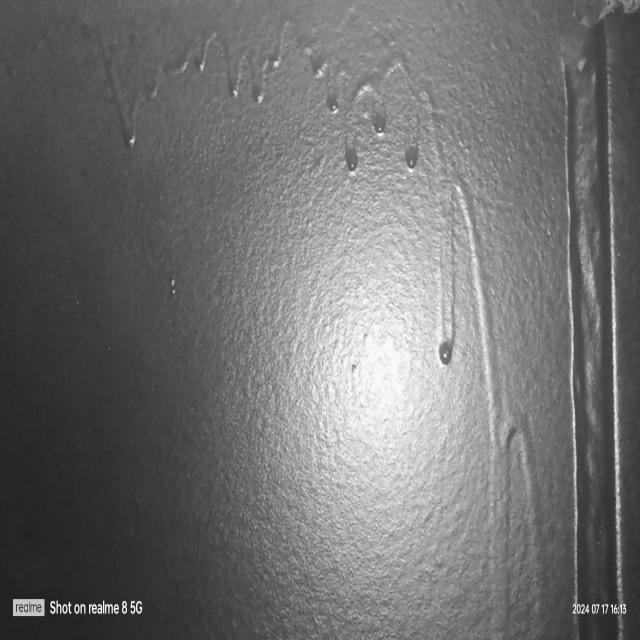paint drips: (428, 74, 551, 640), (92, 18, 426, 183)
